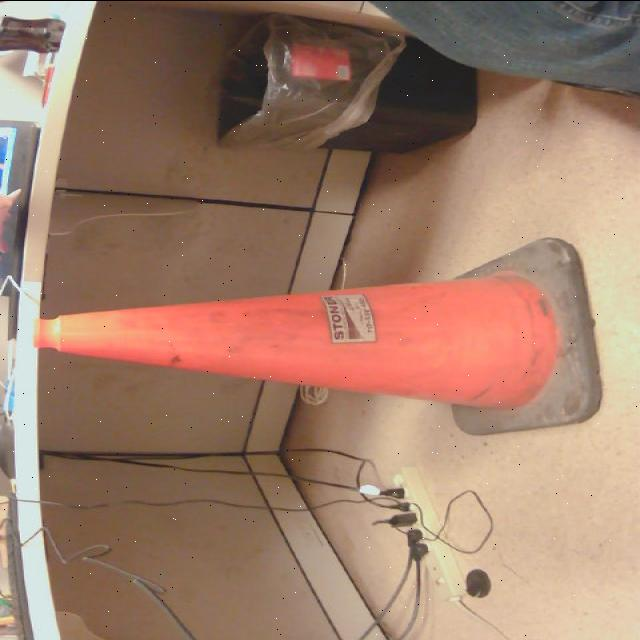traffic cone: (21, 225, 610, 449)
